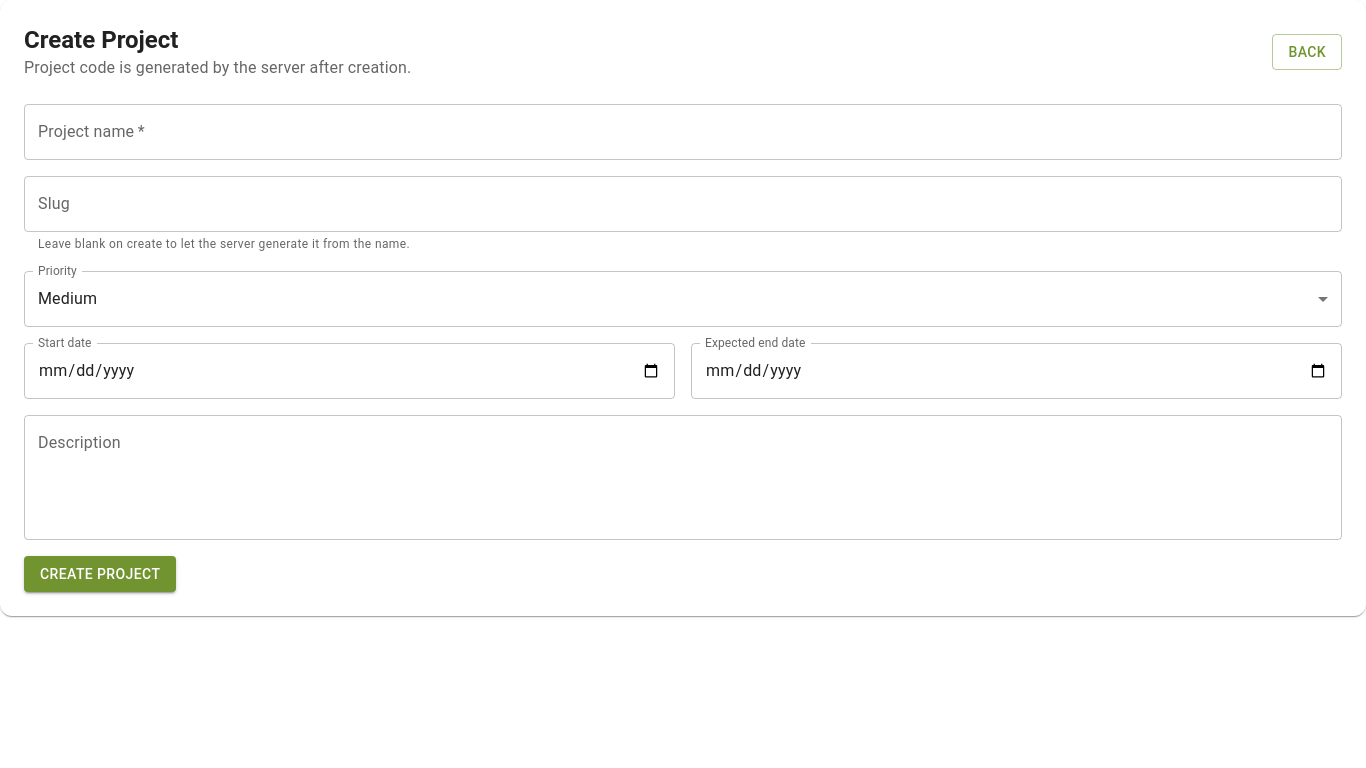
Test: Project pages › renders project validation errors beside fields
Step 1. Type "Portal" into the field labelled "Project name *" → x=683, y=132, box [24,104,1342,160]
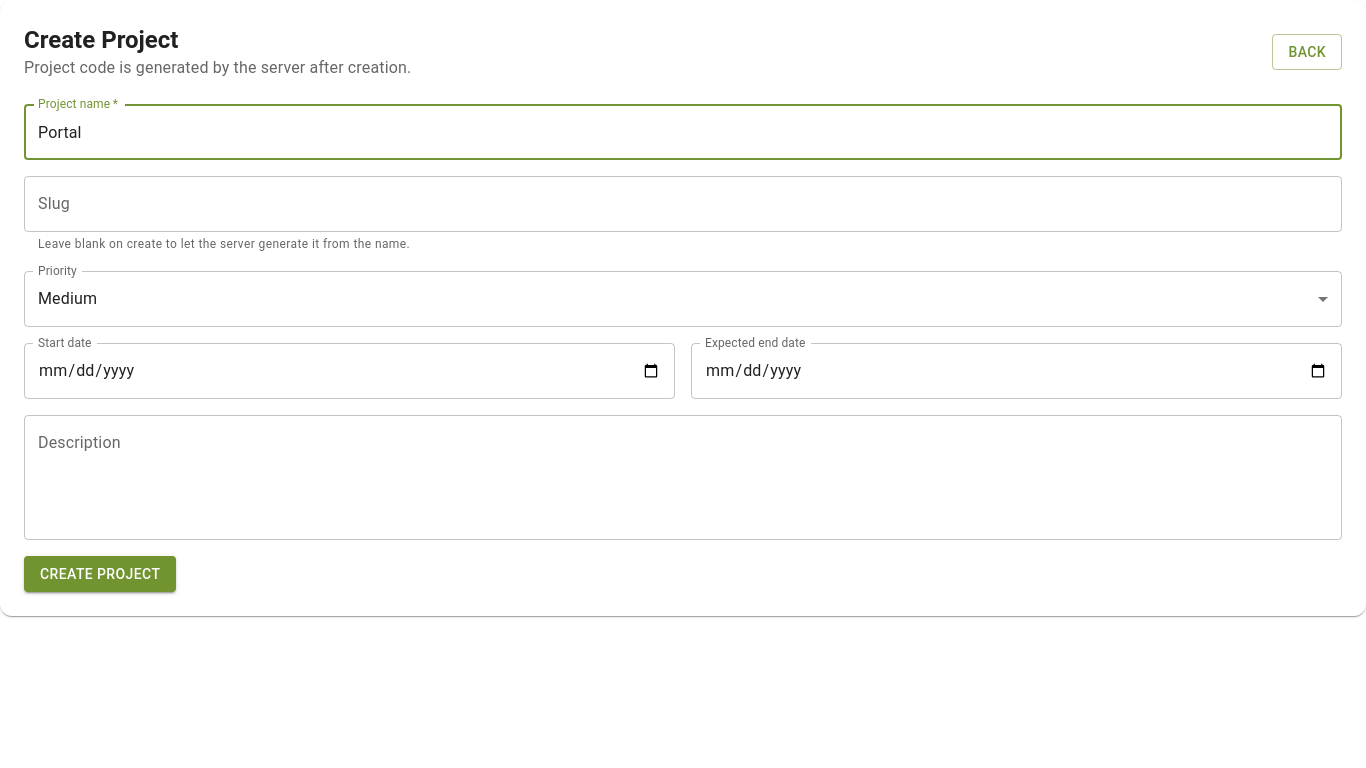
Step 2. Type "portal" into the field labelled "Slug" → x=683, y=204, box [24,176,1342,232]
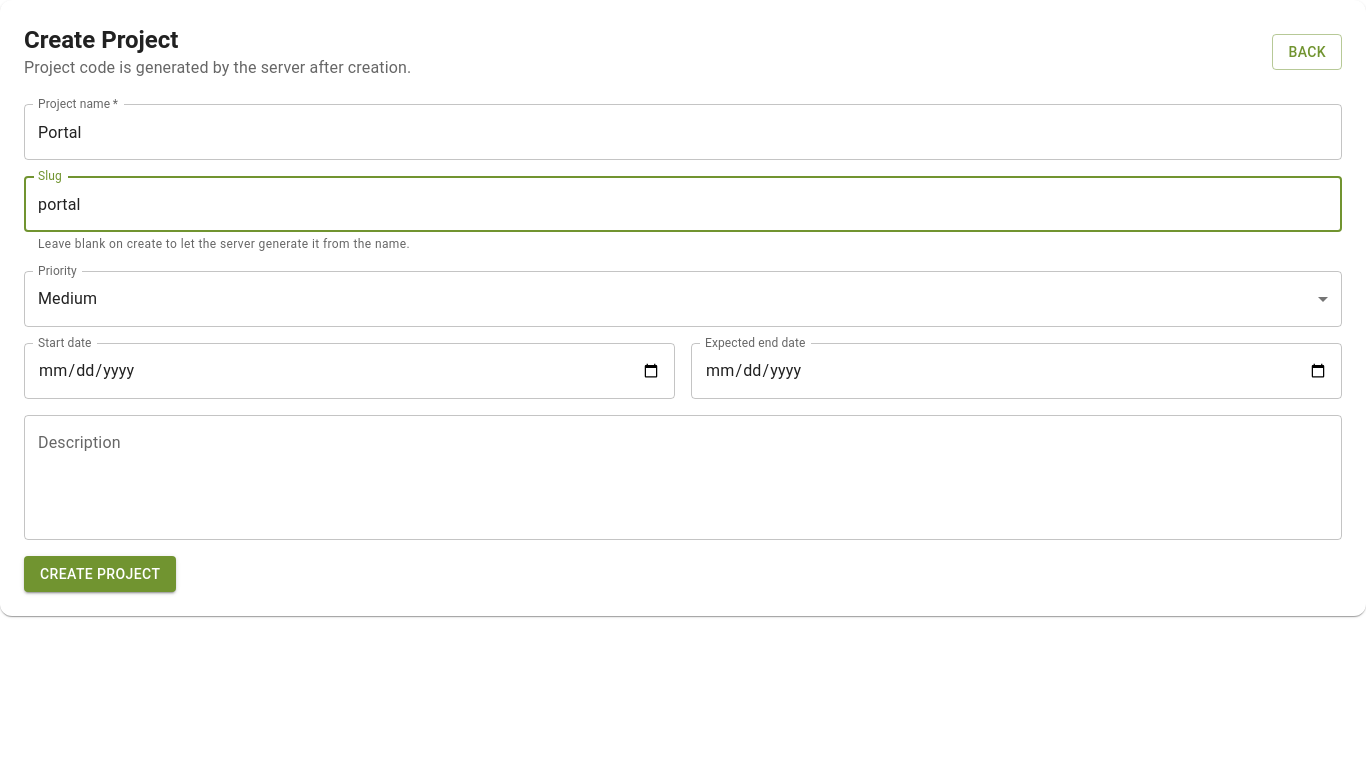
Step 3. Click the button "Create Project" → x=100, y=574, box [24,556,176,592]
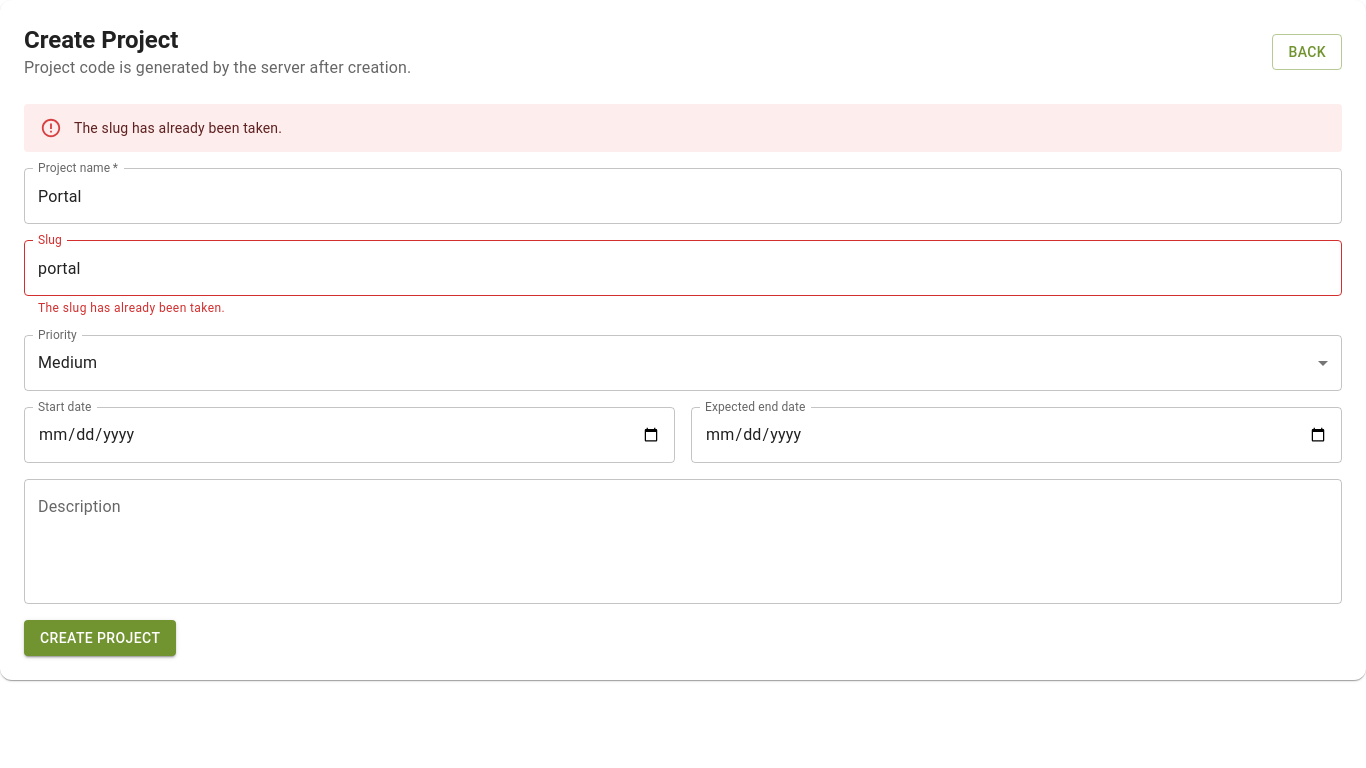
Now the text "The slug has already been taken." is shown 2 times, box [74,120,282,136]; [38,301,225,315]
